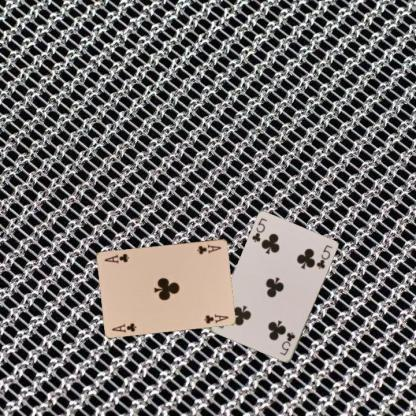5c: (250, 215, 268, 244), (278, 330, 296, 356)
Ac: (109, 320, 138, 334), (195, 242, 222, 256)
